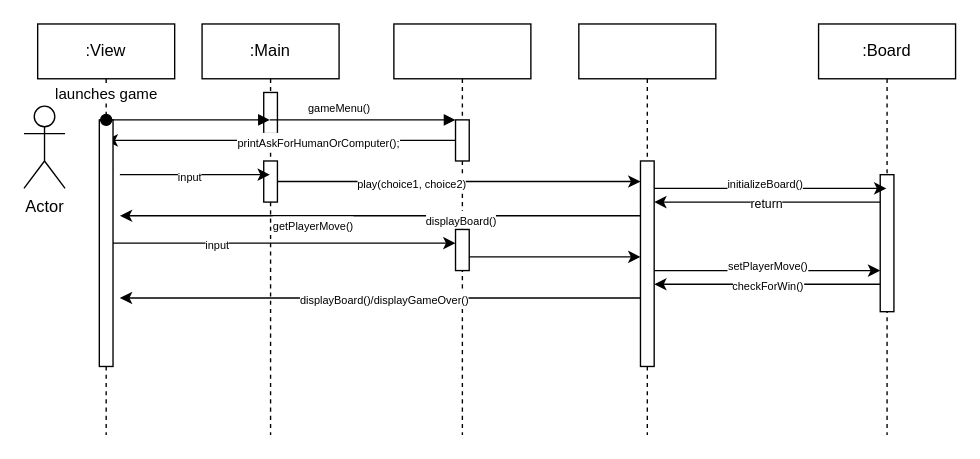
Some shapes in this 980 by 459 pixel diagram are drawn without their labels. Here are the shapes that lost their labels. From the top down, the centre of each, then its label:
At (x=462, y=229): ":UserInterface".
At (x=646, y=229): ":TicTacToe".
